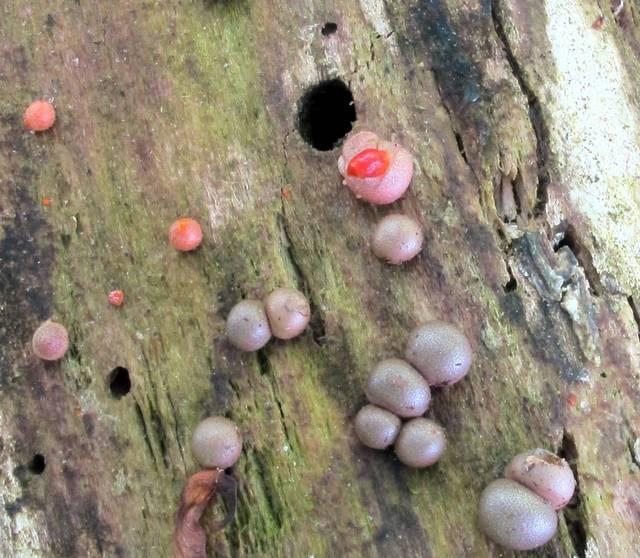Non-edible Mushroom: (353, 319, 473, 469), (476, 477, 558, 551), (336, 129, 414, 205), (403, 319, 473, 388), (504, 447, 576, 510), (363, 357, 431, 418), (189, 414, 243, 471), (369, 212, 424, 265), (393, 416, 446, 468), (224, 297, 271, 352), (264, 286, 311, 340), (352, 403, 400, 450), (30, 319, 69, 361), (168, 216, 203, 251), (21, 99, 55, 132)
